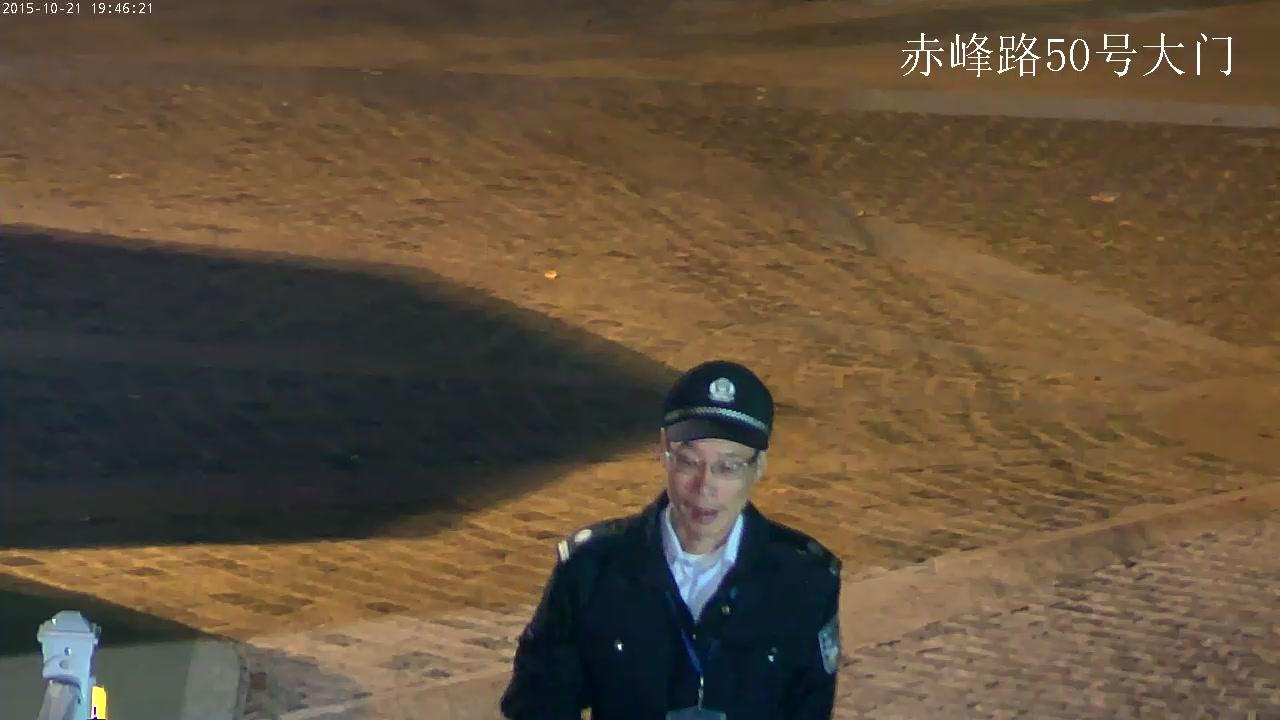person: (498, 360, 841, 720)
